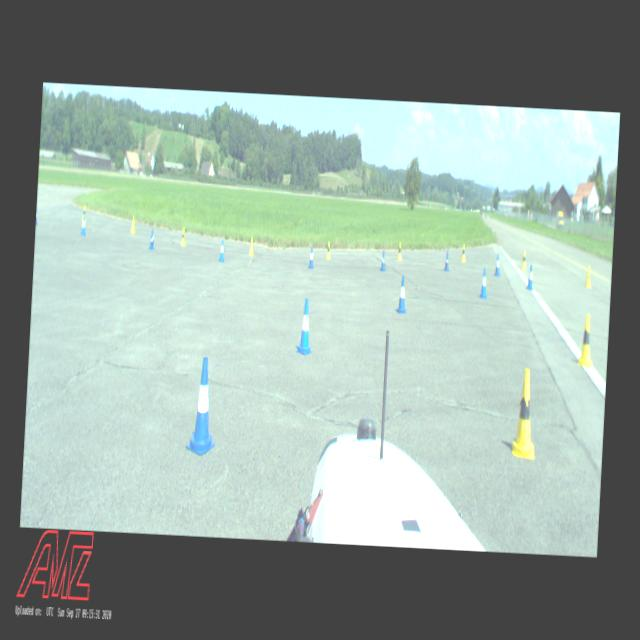blue_cone: (186, 356, 220, 456), (296, 298, 314, 355), (396, 276, 409, 314), (479, 267, 488, 299), (526, 264, 534, 289), (218, 240, 226, 262), (148, 229, 156, 250), (379, 249, 386, 272), (494, 253, 501, 276), (80, 216, 87, 237), (444, 251, 451, 271), (308, 246, 314, 269)
yellow_cone: (510, 368, 540, 461), (578, 314, 595, 367), (584, 266, 592, 288), (180, 226, 187, 246), (82, 204, 88, 222), (131, 215, 137, 233), (522, 250, 527, 270), (461, 244, 466, 263), (326, 241, 331, 259), (397, 242, 402, 260), (250, 237, 254, 256)
